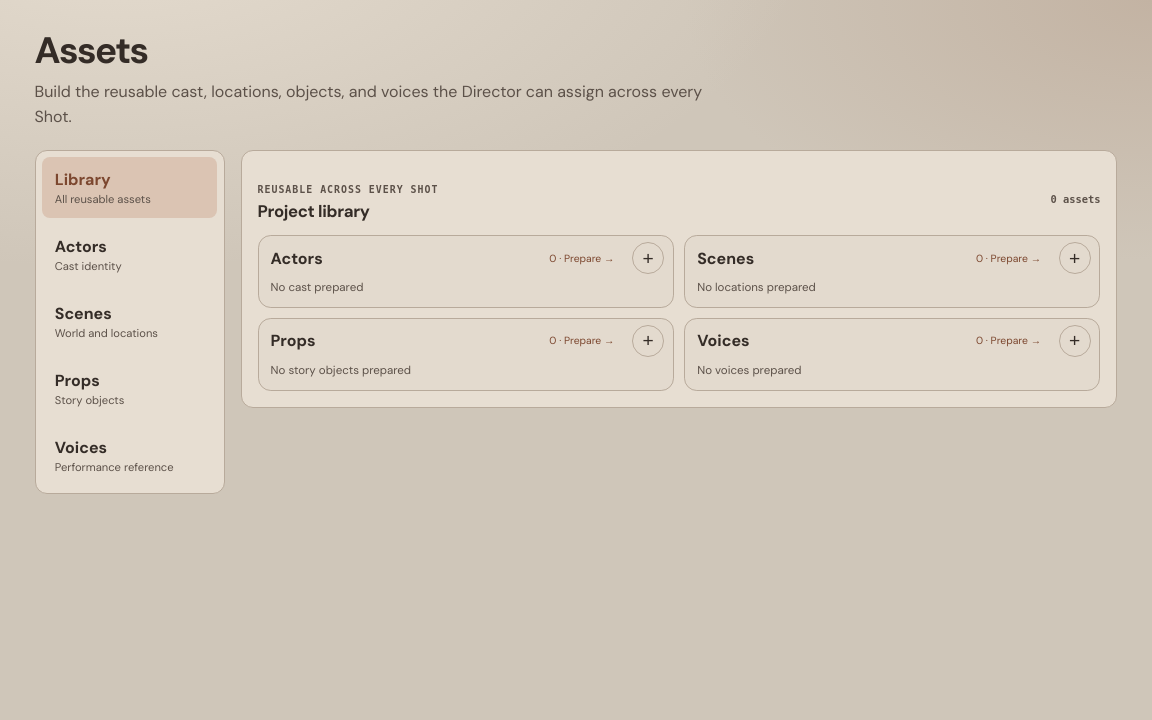
Test: AssetWorkspace › keeps category navigation separate from the explicit import action
Expected: the button "Import" is not shown
Step 1. Click the button "Scenes World and locations" → (130, 322), box [42,291,217,352]
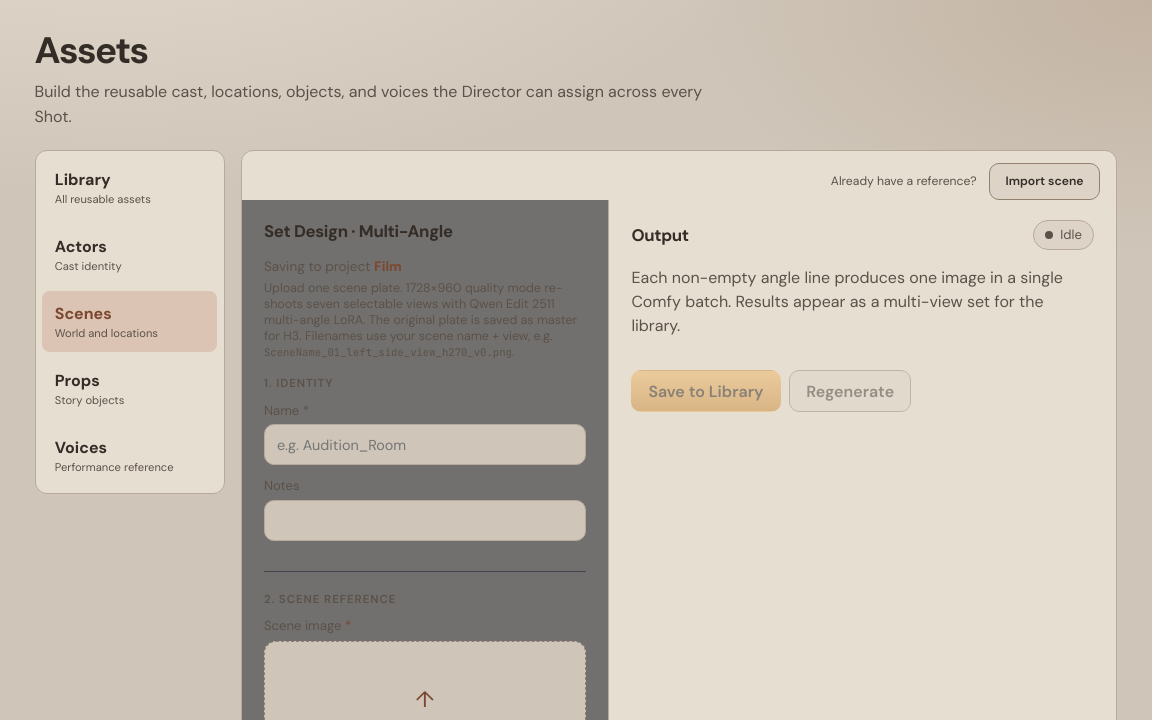
Step 2. Click the button "Import scene" → (1045, 181), box [989,163,1100,200]
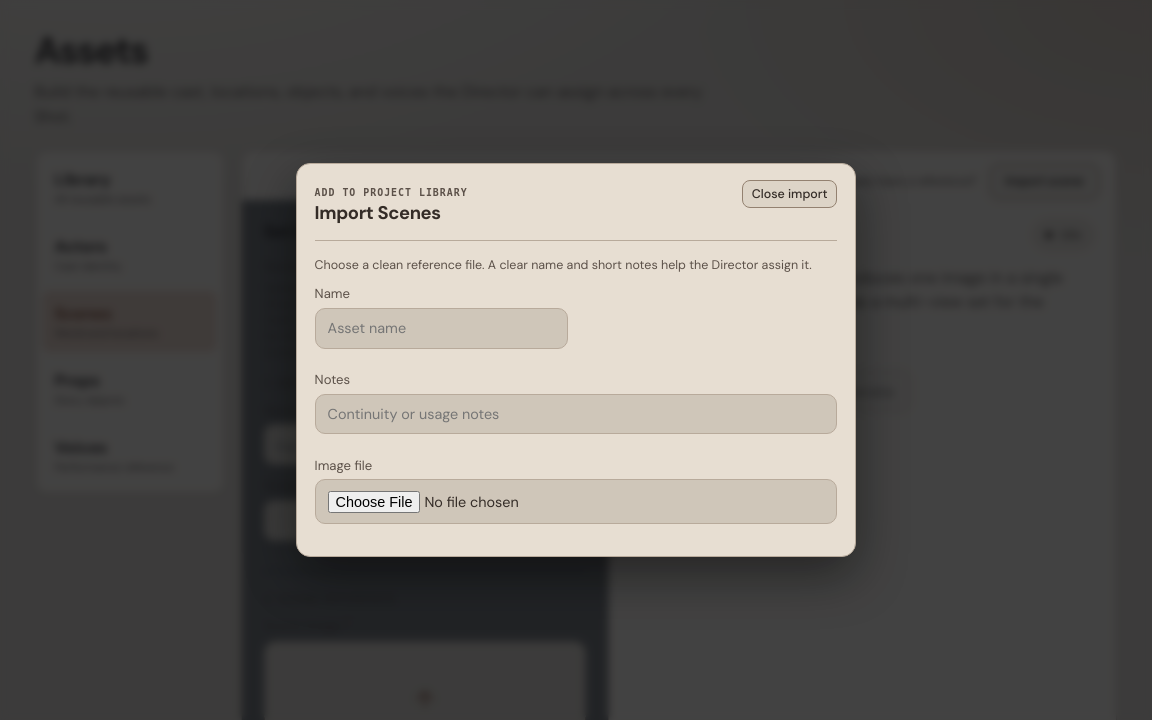
Result: the dialog "Import Scenes" is shown
